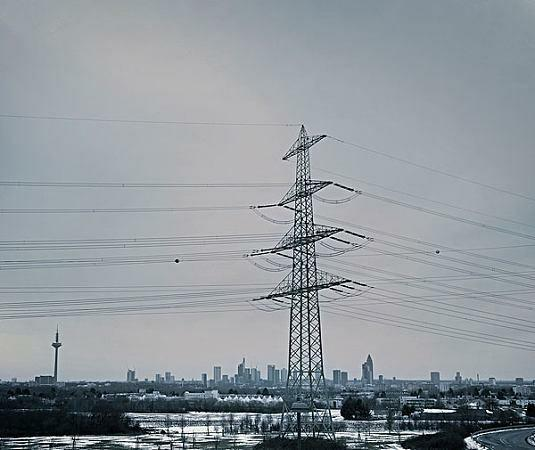power_tower: (260, 119, 363, 399)
